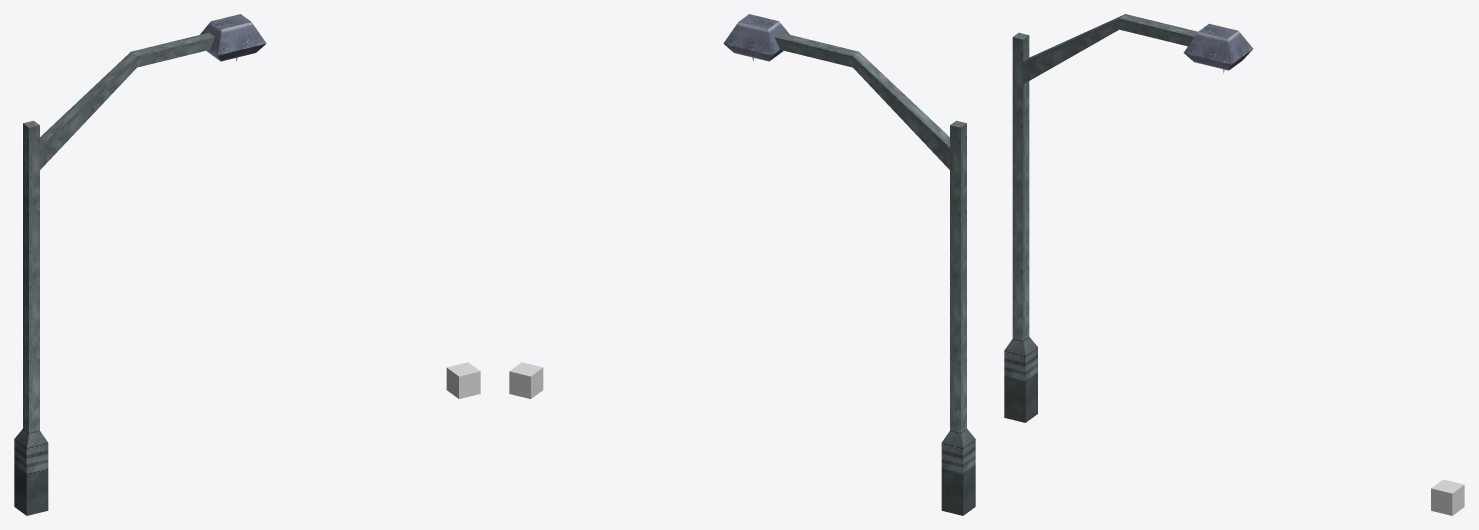
Rendered from slight02.FBX.
3 views of the same model, side by side, from view 1: azimuth 30°, elevation 25°; view 2: azimuth 150°, elevation 25°; view 3: azimuth 330°, elevation 25° (orthographic).
Parts seen in each view (by area): view 1: slight02, cube1, hp_dummyroot; view 2: slight02, cube1, hp_dummyroot; view 3: slight02, cube1, hp_dummyroot.
Boxes of the visible parts, x1=… form: slight02: x1=14, y1=32, x2=215, y2=515; cube1: x1=200, y1=14, x2=266, y2=61; hp_dummyroot: x1=446, y1=362, x2=480, y2=398; slight02: x1=774, y1=32, x2=975, y2=515; cube1: x1=723, y1=14, x2=789, y2=61; hp_dummyroot: x1=509, y1=362, x2=543, y2=398; slight02: x1=1004, y1=14, x2=1197, y2=422; cube1: x1=1183, y1=23, x2=1253, y2=70; hp_dummyroot: x1=1431, y1=479, x2=1464, y2=515.
Size of what is drawn, in the model's own units: 21 by 1.76 by 19.38.
